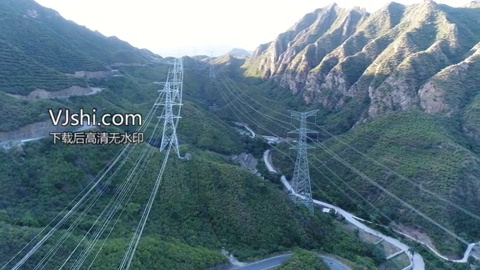tower_body: (285, 106, 323, 202), (151, 79, 188, 157)
tower_foot: (291, 174, 311, 200), (156, 137, 182, 155)
tower_head: (154, 82, 186, 96), (288, 109, 320, 120)
